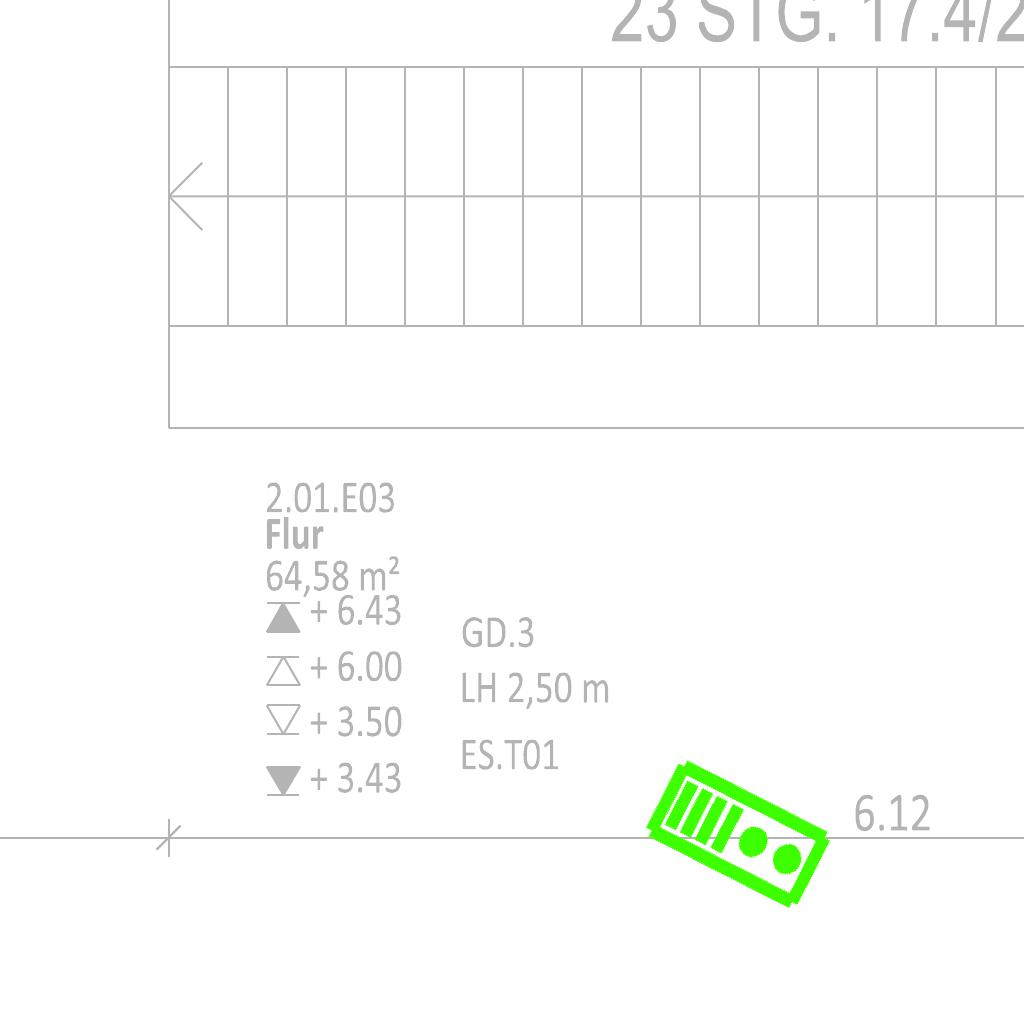Gegensprechanlage_mit_Video: (639, 750, 840, 916)
